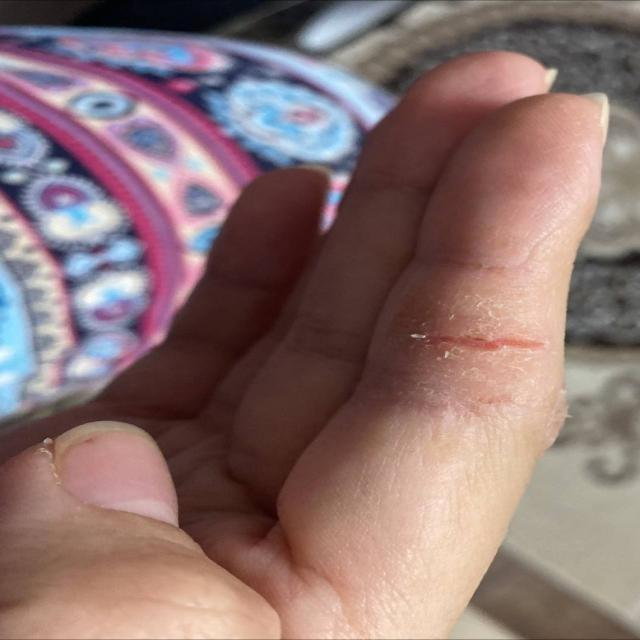Eczema: (405, 240, 550, 422)
